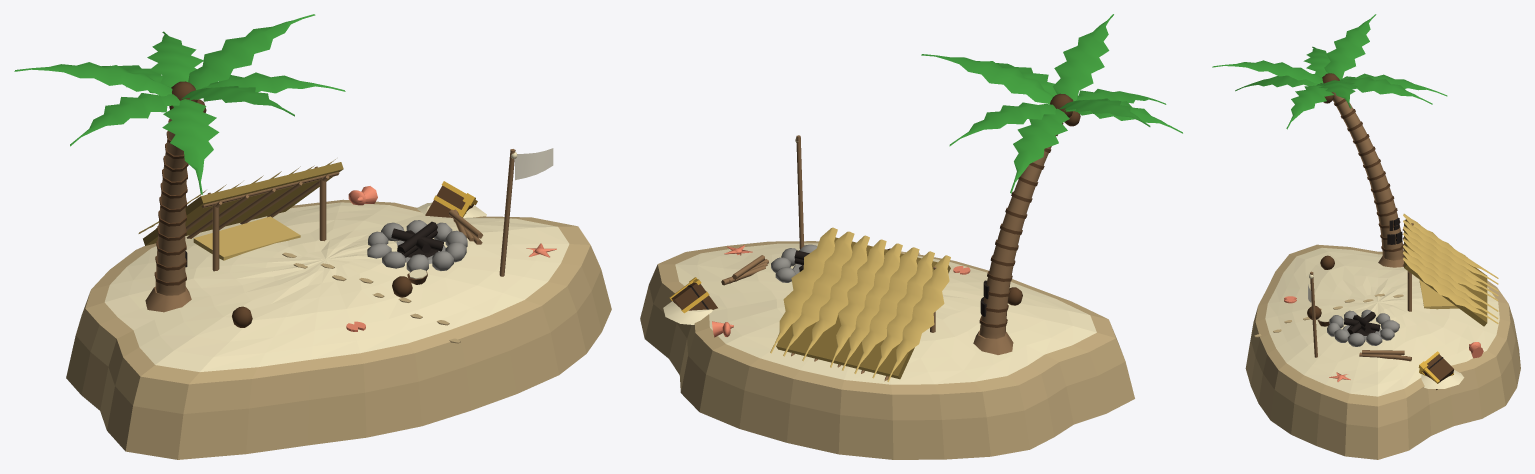
The model's file is disc-castaway-sandbar.glb.
3 views of the same model, side by side, from view 1: azimuth 30°, elevation 25°; view 2: azimuth 150°, elevation 25°; view 3: azimuth 270°, elevation 25° (orthographic). The views are drawn at different scales.
Parts seen in each view (by area): view 1: Mesh_SandWet, Mesh_Sand, Mesh_ShelterThatch, Mesh_PalmTrunk, Mesh_Frond0, Mesh_Frond5, Mesh_ShelterBed, Mesh_Frond3, Mesh_Frond4, Mesh_Frond1, Mesh_Frond7, Mesh_Frond6 (+4 smaller); view 2: Mesh_SandWet, Mesh_Sand, Mesh_PalmTrunk, Mesh_ShelterThatch, Mesh_Frond6, Mesh_ThatchLeaf0, Mesh_ThatchLeaf7, Mesh_ThatchLeaf6, Mesh_ThatchLeaf2, Mesh_Frond2, Mesh_ThatchLeaf4, Mesh_ThatchLeaf5 (+11 smaller); view 3: Mesh_SandWet, Mesh_Sand, Mesh_PalmTrunk, Mesh_Frond3, Mesh_ShelterThatch, Mesh_Frond6, Mesh_Frond1, Mesh_Frond7, Mesh_ThatchLeaf7, Mesh_ThatchLeaf4, Mesh_ThatchLeaf6, Mesh_ThatchLeaf2 (+12 smaller).
Part boxes in pixels (box(x1,y1,x2,y2)): Mesh_SandWet: box(66, 199, 611, 459); Mesh_Sand: box(104, 202, 569, 371); Mesh_ShelterThatch: box(143, 162, 343, 245); Mesh_PalmTrunk: box(155, 119, 186, 295); Mesh_Frond0: box(188, 14, 315, 89); Mesh_Frond5: box(162, 99, 219, 194); Mesh_ShelterBed: box(193, 216, 300, 260); Mesh_Frond3: box(14, 62, 172, 96); Mesh_Frond4: box(70, 93, 179, 146); Mesh_Frond1: box(147, 31, 203, 86); Mesh_Frond7: box(195, 72, 345, 99); Mesh_Frond6: box(181, 86, 294, 116); Mesh_SandWet: box(640, 241, 1134, 459); Mesh_Sand: box(675, 243, 1096, 384); Mesh_PalmTrunk: box(979, 146, 1051, 338); Mesh_ShelterThatch: box(776, 237, 950, 379); Mesh_Frond6: box(1053, 14, 1113, 101); Mesh_ThatchLeaf0: box(887, 255, 950, 381); Mesh_ThatchLeaf7: box(770, 227, 837, 353); Mesh_ThatchLeaf6: box(783, 231, 854, 356); Mesh_ThatchLeaf2: box(854, 247, 919, 373); Mesh_Frond2: box(1010, 108, 1069, 193); Mesh_ThatchLeaf4: box(830, 239, 886, 367); Mesh_ThatchLeaf5: box(802, 235, 869, 361); Mesh_SandWet: box(1245, 244, 1520, 459); Mesh_Sand: box(1265, 247, 1499, 396); Mesh_PalmTrunk: box(1333, 92, 1403, 260); Mesh_Frond3: box(1324, 14, 1376, 79); Mesh_ShelterThatch: box(1404, 219, 1487, 326); Mesh_Frond6: box(1212, 60, 1323, 83); Mesh_Frond1: box(1339, 76, 1432, 104); Mesh_Frond7: box(1286, 83, 1333, 129); Mesh_ThatchLeaf7: box(1403, 257, 1498, 323); Mesh_ThatchLeaf4: box(1403, 238, 1498, 300); Mesh_ThatchLeaf6: box(1403, 251, 1498, 319); Mesh_ThatchLeaf2: box(1403, 226, 1498, 291).
Size of the model in its own units: 17.53 by 10.48 by 11.64.
